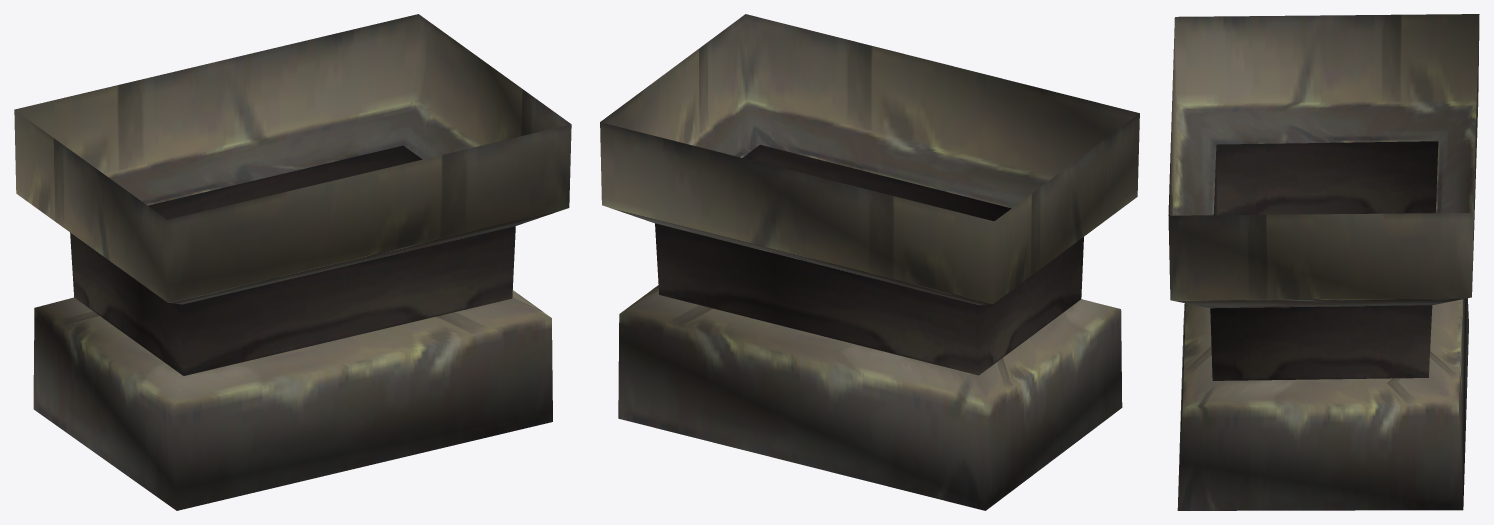
Rendered from ti_roadcurbnub01.obj.
3 views of the same model, side by side, from view 1: azimuth 30°, elevation 25°; view 2: azimuth 150°, elevation 25°; view 3: azimuth 270°, elevation 25° (orthographic). The views are drawn at different scales.
Parts seen in each view (by area): view 1: ti_roadcurbnub01; view 2: ti_roadcurbnub01; view 3: ti_roadcurbnub01.
Boxes of the visible parts, left/top/right/bottom form: ti_roadcurbnub01: left=14, top=14, right=571, bottom=510; ti_roadcurbnub01: left=600, top=14, right=1139, bottom=510; ti_roadcurbnub01: left=1168, top=14, right=1479, bottom=510.
Size of the model in its own units: 26.71 by 18.91 by 17.53.
Materials: 1 (1 with a texture image).
